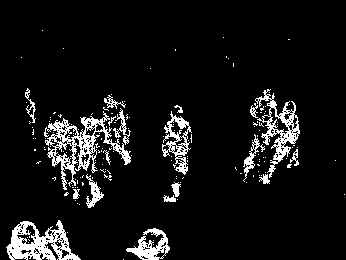person: (159, 102, 192, 204), (244, 87, 276, 178), (269, 101, 300, 181), (101, 89, 131, 168), (80, 114, 112, 176), (58, 121, 79, 199), (40, 112, 64, 165)
